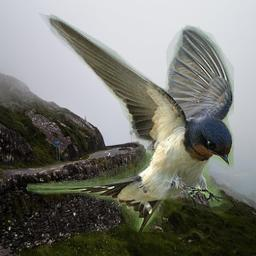Swallow: (27, 12, 234, 232)
